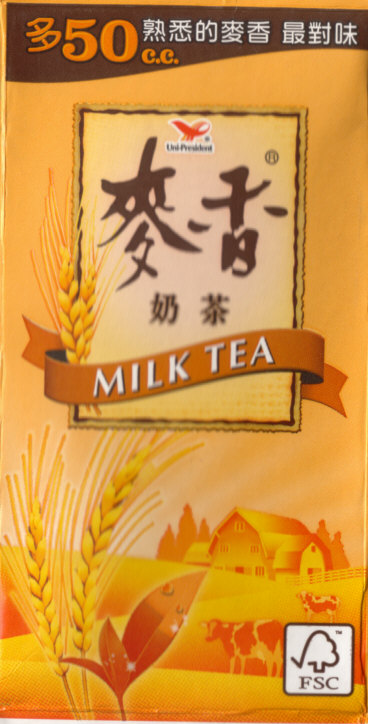milk tea: (2, 1, 368, 719)
